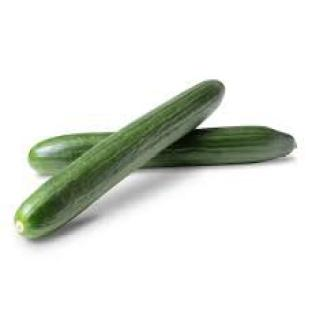Cucumber: (15, 81, 224, 238), (144, 127, 295, 167)
